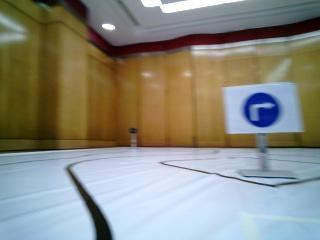right: (234, 91, 290, 130)
